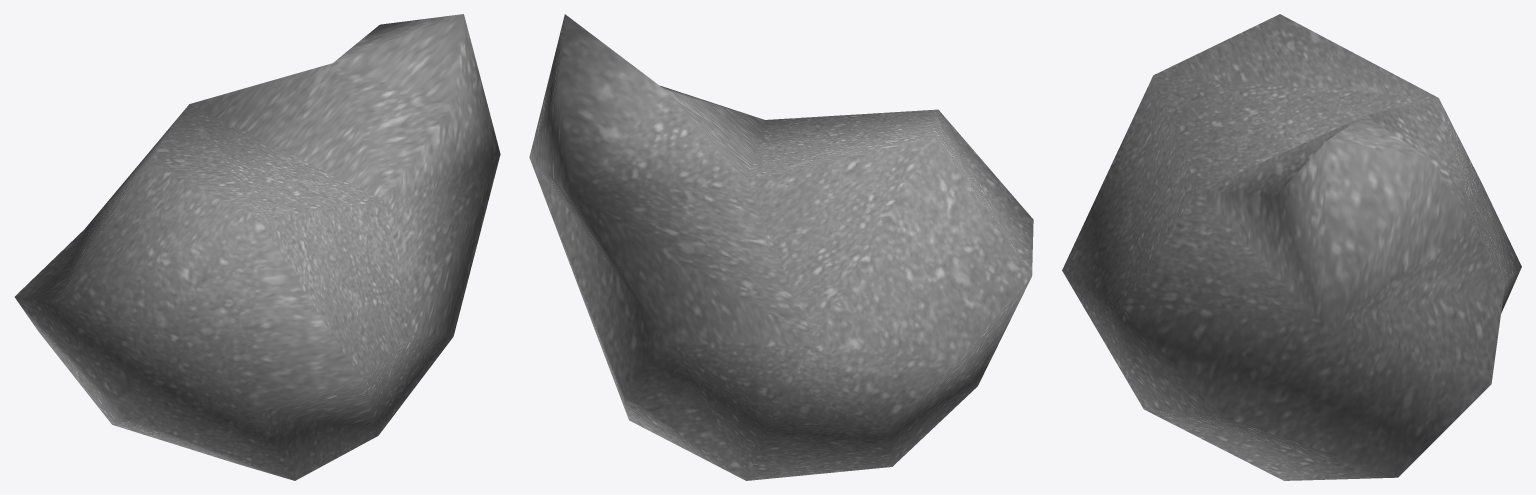
File: stone1.fbx
3 renders of one model, left to right at view 1: azimuth 30°, elevation 25°; view 2: azimuth 150°, elevation 25°; view 3: azimuth 270°, elevation 25°, orthographic. The views are drawn at different scales.
Visible parts, largest first — view 1: pCube1; view 2: pCube1; view 3: pCube1.
Boxes of the visible parts, left/top/right/bottom form: pCube1: left=14, top=14, right=500, bottom=480; pCube1: left=529, top=14, right=1033, bottom=480; pCube1: left=1062, top=14, right=1521, bottom=480.
Bounding box in the file's own units: 16.63 × 13.36 × 12.75.
